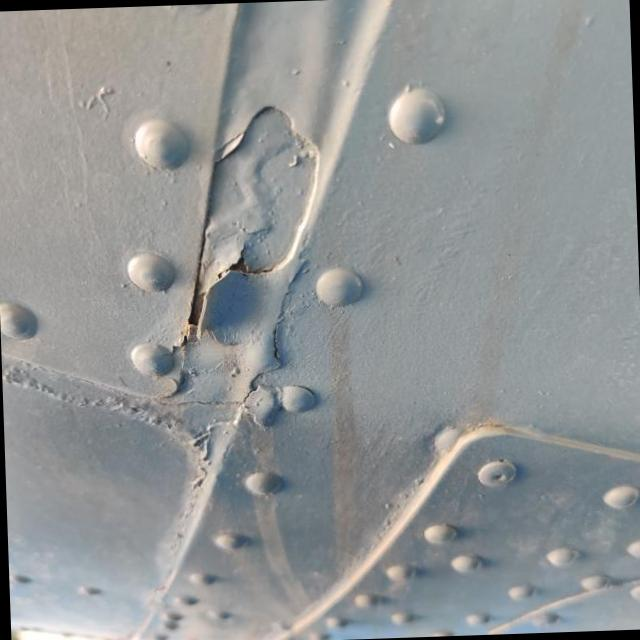Crack: (176, 256, 284, 384)
